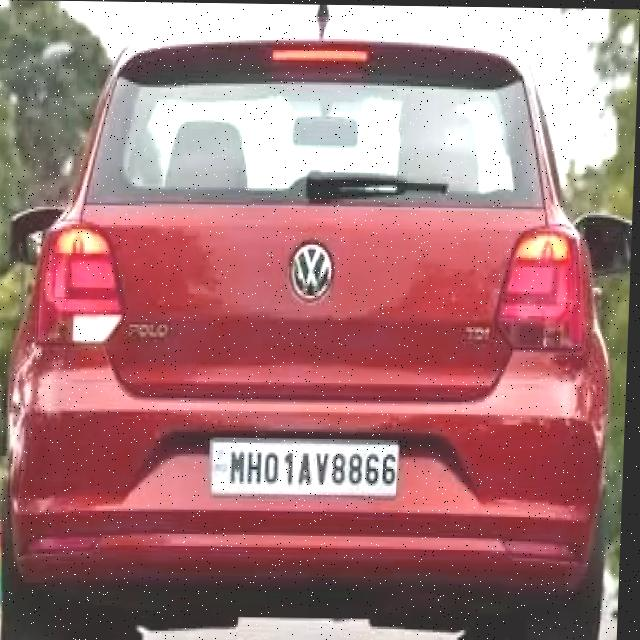plate: (215, 439, 404, 497)
